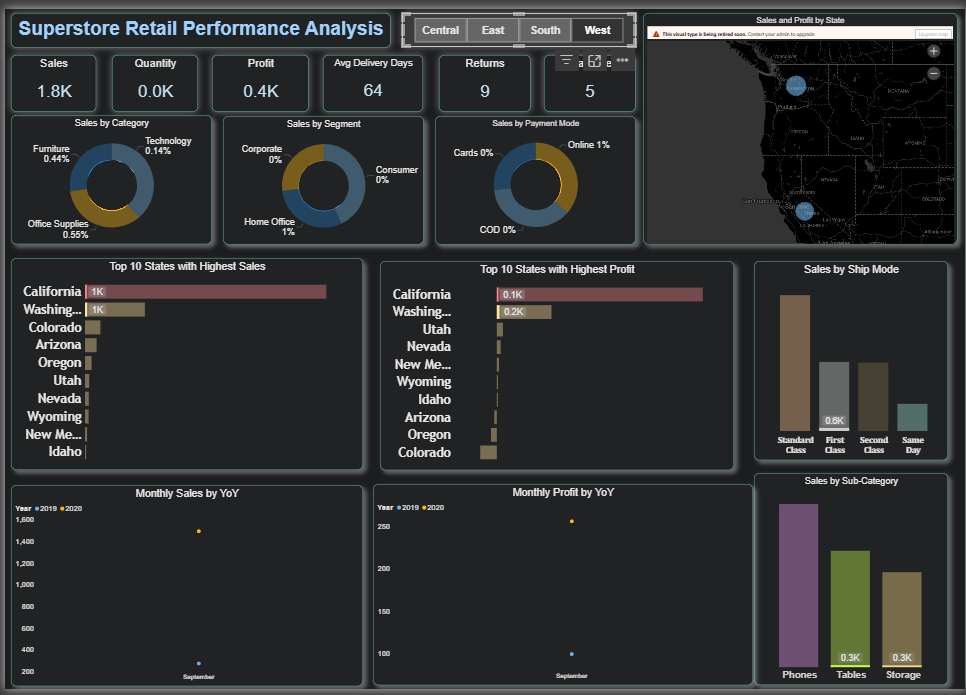

The dashboard page shown, as its layout file describes it:
{"tool":"powerbi","page":{"name":"Dashboard","canvas":[2400,1700],"ordinal":0},"visuals":[{"type":"donutChart","title":"Sales by Category","fields":{"Category":["SuperStore_Sales_Dataset.Category"],"Y":["Sum(SuperStore_Sales_Dataset.Sales)"]},"box":[15.8,265.4,501.9,323.2],"z":0},{"type":"clusteredColumnChart","title":"Sales by Sub-Category","fields":{"Category":["SuperStore_Sales_Dataset.Sub-Category"],"Y":["Sum(SuperStore_Sales_Dataset.Sales)"]},"box":[1872.5,1160,485,530],"z":1000},{"type":"clusteredColumnChart","title":"Sales by Ship Mode","fields":{"Category":["SuperStore_Sales_Dataset.Ship Mode"],"Y":["Sum(SuperStore_Sales_Dataset.Sales)"]},"box":[1872.5,630,485,497.5],"z":2000},{"type":"areaChart","title":"Monthly Sales by YoY ","fields":{"Y":["Sum(SuperStore_Sales_Dataset.Sales)"],"Category":["SuperStore_Sales_Dataset.Order Date.Variation.Date Hierarchy.Month","SuperStore_Sales_Dataset.Order Date.Variation.Date Hierarchy.Day"],"Series":["SuperStore_Sales_Dataset.Order Date.Variation.Date Hierarchy.Year"]},"box":[15,1190,880,502.5],"z":3000},{"type":"areaChart","title":"Monthly Profit by YoY ","fields":{"Category":["SuperStore_Sales_Dataset.Order Date.Variation.Date Hierarchy.Month","SuperStore_Sales_Dataset.Order Date.Variation.Date Hierarchy.Day"],"Series":["SuperStore_Sales_Dataset.Order Date.Variation.Date Hierarchy.Year"],"Y":["Sum(SuperStore_Sales_Dataset.Profit)"]},"box":[920,1187.5,950,502.5],"z":4000},{"type":"map","title":"Sales and Profit by State","fields":{"Category":["SuperStore_Sales_Dataset.State"],"Size":["Sum(SuperStore_Sales_Dataset.Sales)"]},"box":[1594.9,10.5,785.6,578.1],"z":5000},{"type":"donutChart","title":"Sales by Segment","fields":{"Category":["SuperStore_Sales_Dataset.Segment"],"Y":["Sum(SuperStore_Sales_Dataset.Sales)"]},"box":[543.9,268,501.9,320.6],"z":6000},{"type":"donutChart","title":"Sales by Payment Mode","fields":{"Category":["SuperStore_Sales_Dataset.Payment Mode"],"Y":["Sum(SuperStore_Sales_Dataset.Sales)"]},"box":[1074.7,268,501.9,320.6],"z":7000},{"type":"slicer","fields":{"Values":["SuperStore_Sales_Dataset.Region"]},"box":[993.2,10.5,583.3,84.1],"z":8000},{"type":"textbox","box":[15.8,10.5,948.5,86.7],"z":9000},{"type":"card","title":"Sales","fields":{"Values":["Sum(SuperStore_Sales_Dataset.Sales)"]},"box":[15.8,115.6,212.8,141.9],"z":10000},{"type":"card","title":"Quantity","fields":{"Values":["Sum(SuperStore_Sales_Dataset.Quantity)"]},"box":[268,115.6,215.5,141.9],"z":11000},{"type":"card","title":"Profit","fields":{"Values":["Sum(SuperStore_Sales_Dataset.Profit)"]},"box":[517.6,115.6,241.7,141.9],"z":12000},{"type":"card","title":"Avg Delivery Days","fields":{"Values":["Avg(SuperStore_Sales_Dataset.AvgDelivery)"]},"box":[796.1,115.6,249.6,141.9],"z":13000},{"type":"card","title":"Returns","fields":{"Values":["CountNonNull(SuperStore_Sales_Dataset.Returns)"]},"box":[1085.2,115.6,228.6,141.9],"z":14000},{"type":"card","title":"Total Cities","fields":{"Values":["Count(SuperStore_Sales_Dataset.City)"]},"box":[1347.9,115.6,228.6,141.9],"z":15000},{"type":"clusteredBarChart","title":"Top 10 States with Highest Sales","fields":{"Category":["SuperStore_Sales_Dataset.State"],"Y":["Sum(SuperStore_Sales_Dataset.Sales)"]},"box":[15,622.5,880,530],"z":16000},{"type":"clusteredBarChart","title":"Top 10 States with Highest Profit ","fields":{"Category":["SuperStore_Sales_Dataset.State"],"Y":["Sum(SuperStore_Sales_Dataset.Profit)"]},"box":[937.5,630,885,522.5],"z":17000}]}

Visuals, with their boxes in screenshot pixels (x1, y1, x2, y2), scaled from the page's 2400x1700 canvas onto the 966x695 screenshot:
"Sales by Category" donutChart: (left=6, top=109, right=208, bottom=241)
"Sales by Sub-Category" clusteredColumnChart: (left=754, top=474, right=949, bottom=691)
"Sales by Ship Mode" clusteredColumnChart: (left=754, top=258, right=949, bottom=461)
"Monthly Sales by YoY " areaChart: (left=6, top=486, right=360, bottom=692)
"Monthly Profit by YoY " areaChart: (left=370, top=485, right=753, bottom=691)
"Sales and Profit by State" map: (left=642, top=4, right=958, bottom=241)
"Sales by Segment" donutChart: (left=219, top=110, right=421, bottom=241)
"Sales by Payment Mode" donutChart: (left=433, top=110, right=635, bottom=241)
slicer - SuperStore_Sales_Dataset.Region: (left=400, top=4, right=635, bottom=39)
textbox: (left=6, top=4, right=388, bottom=40)
"Sales" card: (left=6, top=47, right=92, bottom=105)
"Quantity" card: (left=108, top=47, right=195, bottom=105)
"Profit" card: (left=208, top=47, right=306, bottom=105)
"Avg Delivery Days" card: (left=320, top=47, right=421, bottom=105)
"Returns" card: (left=437, top=47, right=529, bottom=105)
"Total Cities" card: (left=543, top=47, right=635, bottom=105)
"Top 10 States with Highest Sales" clusteredBarChart: (left=6, top=254, right=360, bottom=471)
"Top 10 States with Highest Profit " clusteredBarChart: (left=377, top=258, right=734, bottom=471)
